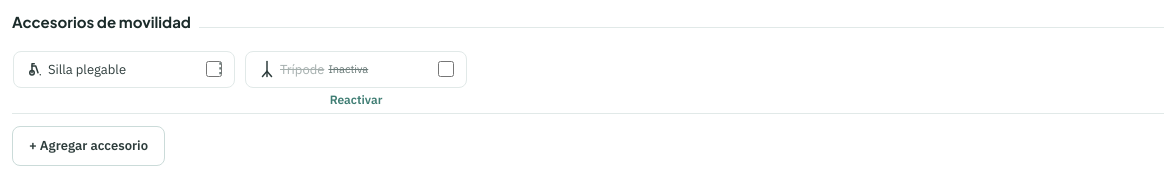
Test case: AccesoriosMovilidadSelector › menú ⋮: con escritura ofrece editar y desactivar por opción
The image size is (1164, 183).
Click the button named "silla plegable": coordinates (220, 68) [209,58,231,78]
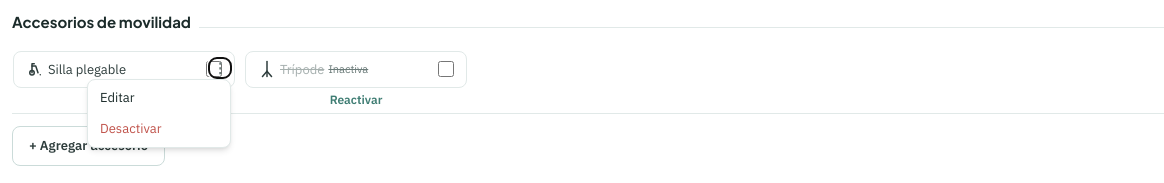
Expected: the menu item "Editar" is shown, [92,84,226,111]
Expected: the menu item "Desactivar" is shown, [92,115,226,142]
